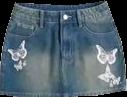Hemline: (0, 89, 126, 96)
Waistline: (15, 1, 105, 11)
